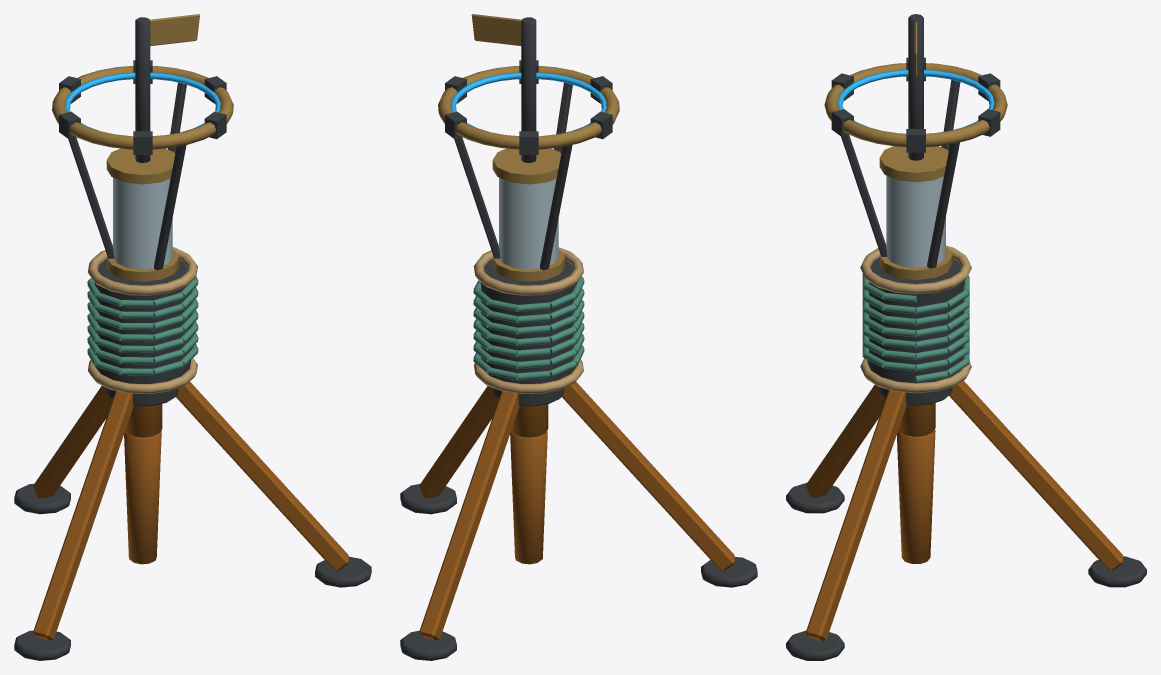
File: storm_ward.fbx
3 renders of one model, left to right at view 1: azimuth 30°, elevation 25°; view 2: azimuth 150°, elevation 25°; view 3: azimuth 270°, elevation 25°, orthographic.
Visible parts, largest first — view 1: Mesh_StormWard_Legs, Mesh_StormWard_Coil, Mesh_StormWard_Stake, Mesh_StormWard_Core, Mesh_StormWard_Ring; view 2: Mesh_StormWard_Legs, Mesh_StormWard_Coil, Mesh_StormWard_Stake, Mesh_StormWard_Core, Mesh_StormWard_Ring; view 3: Mesh_StormWard_Legs, Mesh_StormWard_Coil, Mesh_StormWard_Stake, Mesh_StormWard_Core, Mesh_StormWard_Ring.
Boxes of the visible parts, x1,y1,x2,y2 form: Mesh_StormWard_Legs: (14, 381, 371, 660); Mesh_StormWard_Coil: (87, 247, 198, 394); Mesh_StormWard_Stake: (68, 14, 199, 564); Mesh_StormWard_Core: (106, 148, 178, 281); Mesh_StormWard_Ring: (52, 60, 233, 154); Mesh_StormWard_Legs: (400, 382, 757, 660); Mesh_StormWard_Coil: (473, 247, 584, 394); Mesh_StormWard_Stake: (454, 14, 572, 564); Mesh_StormWard_Core: (492, 148, 564, 281); Mesh_StormWard_Ring: (438, 60, 619, 154); Mesh_StormWard_Legs: (786, 380, 1146, 660); Mesh_StormWard_Coil: (860, 245, 971, 393); Mesh_StormWard_Stake: (841, 14, 960, 563); Mesh_StormWard_Core: (879, 146, 952, 279); Mesh_StormWard_Ring: (824, 57, 1007, 152).
Bounding box in the file's own units: 62.25 × 95 × 55.5.
